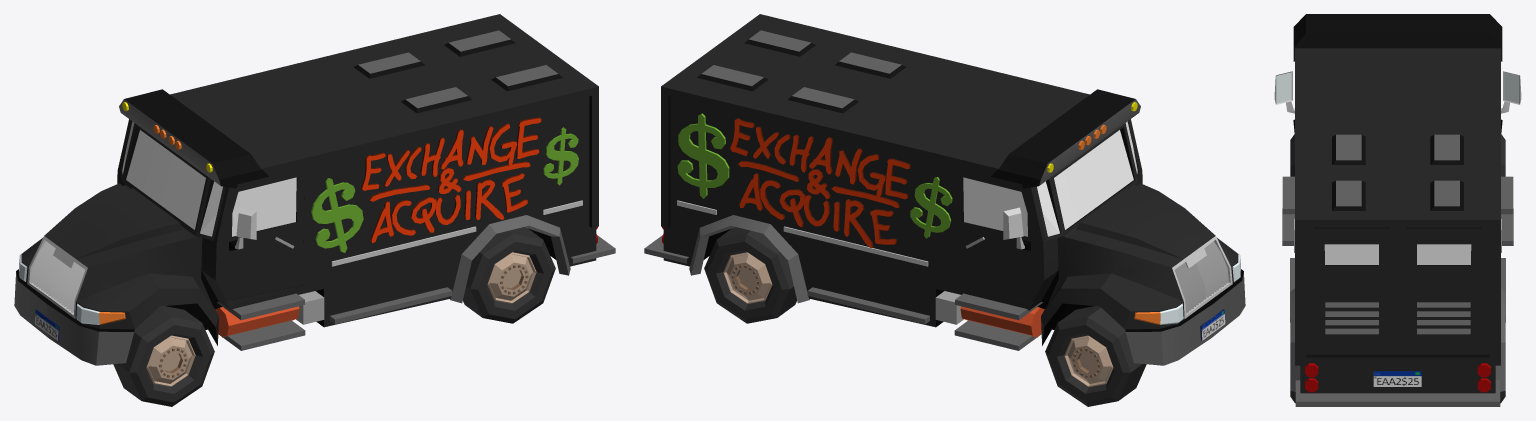
The model's file is VendorVan.glb.
3 renders of one model, left to right at view 1: azimuth 30°, elevation 25°; view 2: azimuth 150°, elevation 25°; view 3: azimuth 270°, elevation 25°, orthographic. The views are drawn at different scales.
Parts seen in each view (by area): view 1: SecurityTruck, Glasses; view 2: SecurityTruck, Glasses; view 3: SecurityTruck, Glasses.
Boxes of the visible parts, bbox=[...] form: SecurityTruck: bbox=[14, 14, 615, 406]; Glasses: bbox=[122, 121, 296, 236]; SecurityTruck: bbox=[644, 14, 1245, 406]; Glasses: bbox=[963, 121, 1137, 236]; SecurityTruck: bbox=[1274, 14, 1521, 406]; Glasses: bbox=[1324, 244, 1471, 264].
Size of what is drawn, in the model's own units: 6.09 by 2.56 by 2.41.
Materials: 2 (1 with a texture image).
